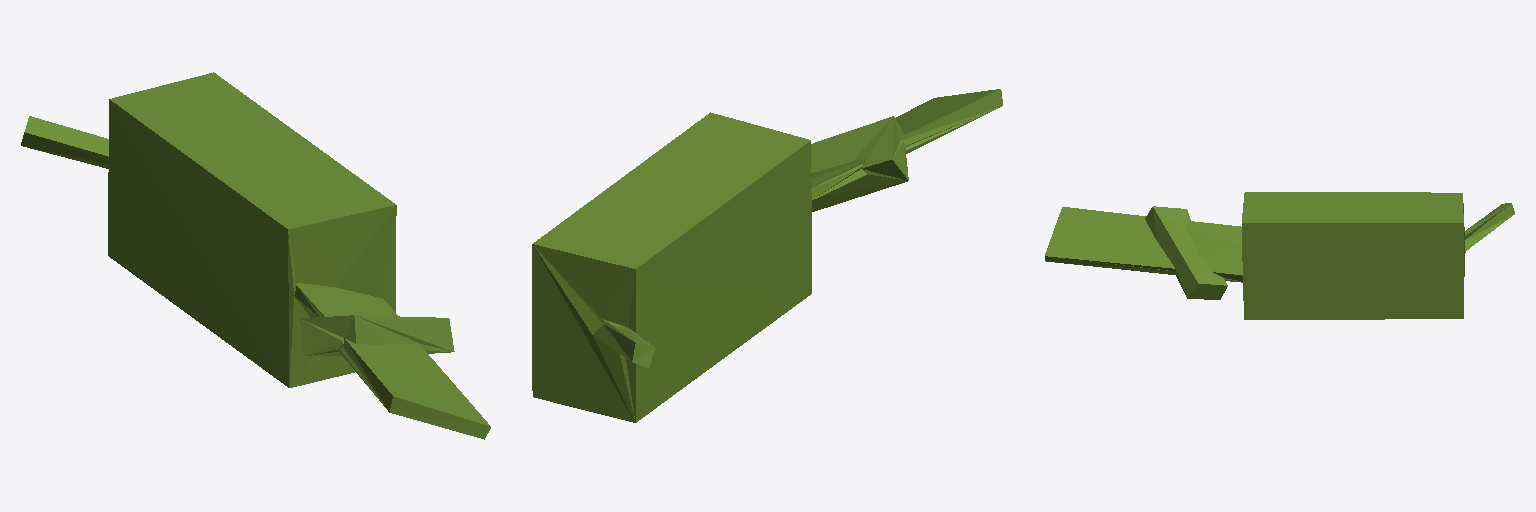
The robot description file, URDF, robot "blob314":

<robot name="blob314">
  <link name="random_obj_314">
    <contact>
      <lateral_friction value="1.0"/>
      <rolling_friction value="0.0"/>
      <inertia_scaling value="3.0"/>
      <contact_cfm value="0.0"/>
      <contact_erp value="1.0"/>
    </contact>
    <inertial>
      <origin rpy="0 0 0" xyz="0 0 0"/>
      <mass value="0.1169"/>
      <inertia ixx="1" ixy="0" ixz="0" iyy="1" iyz="0" izz="0"/>
    </inertial>
    <visual>
      <origin rpy="0 0 0" xyz="0 0 0"/>
      <geometry>
        <mesh filename="314.obj" scale="0.0075 0.0075 0.0075"/>
      </geometry>
      <material name="blockmat">
        <color rgba="0.46 0.59 0.25 1"/>
      </material>
    </visual>
    <collision>
      <origin rpy="0 0 0" xyz="0 0 0"/>
      <geometry>
        <mesh filename="314_coll.obj" scale="0.0075 0.0075 0.0075"/>
      </geometry>
    </collision>
  </link>
</robot>

--- Render facts (derived) ---
The picture shows the robot from 3 angles, left to right: view 1: azimuth 30°, elevation 25°; view 2: azimuth 150°, elevation 25°; view 3: azimuth 270°, elevation 25°; orthographic projection.
Model blob314 with 1 links and 0 joints (none), rooted at random_obj_314, posed all joints at 0.
Visible links, largest first — view 1: random_obj_314; view 2: random_obj_314; view 3: random_obj_314.
Boxes of the visible links, x1,y1,x2,y2 form: random_obj_314: (21, 72, 490, 439); random_obj_314: (532, 89, 1002, 422); random_obj_314: (1045, 192, 1514, 319).
Size in the robot's own frame: 0.05 by 0.1914 by 0.0435 metres.
1 mesh visuals loaded from 1 distinct referenced files (1 OBJ).
